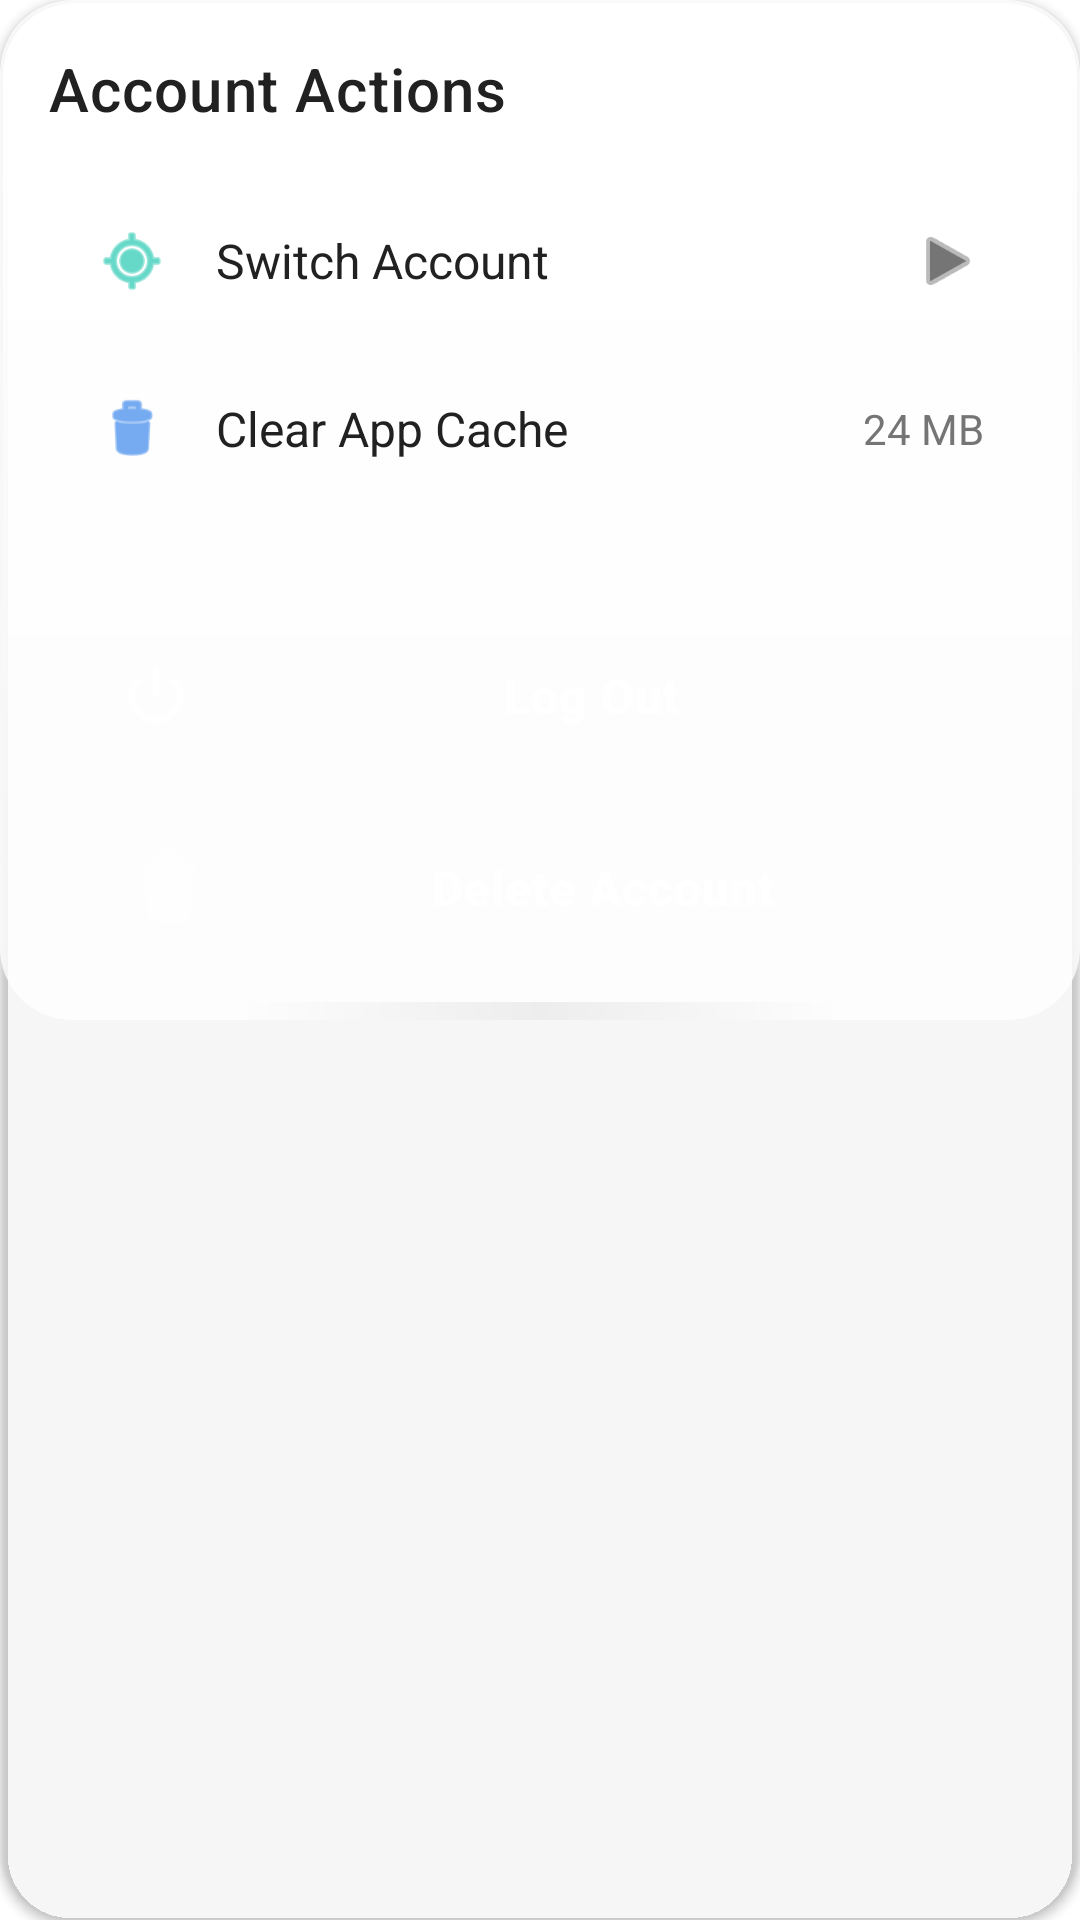

Named icons in this screenshot (1080x1920) and their bounding boxes, {"x1": x1, "y1": y1, "x2": x2, "y2": y2}:
delete: {"x1": 112, "y1": 400, "x2": 153, "y2": 456}
mylocation: {"x1": 103, "y1": 232, "x2": 161, "y2": 290}
play: {"x1": 926, "y1": 237, "x2": 970, "y2": 285}
